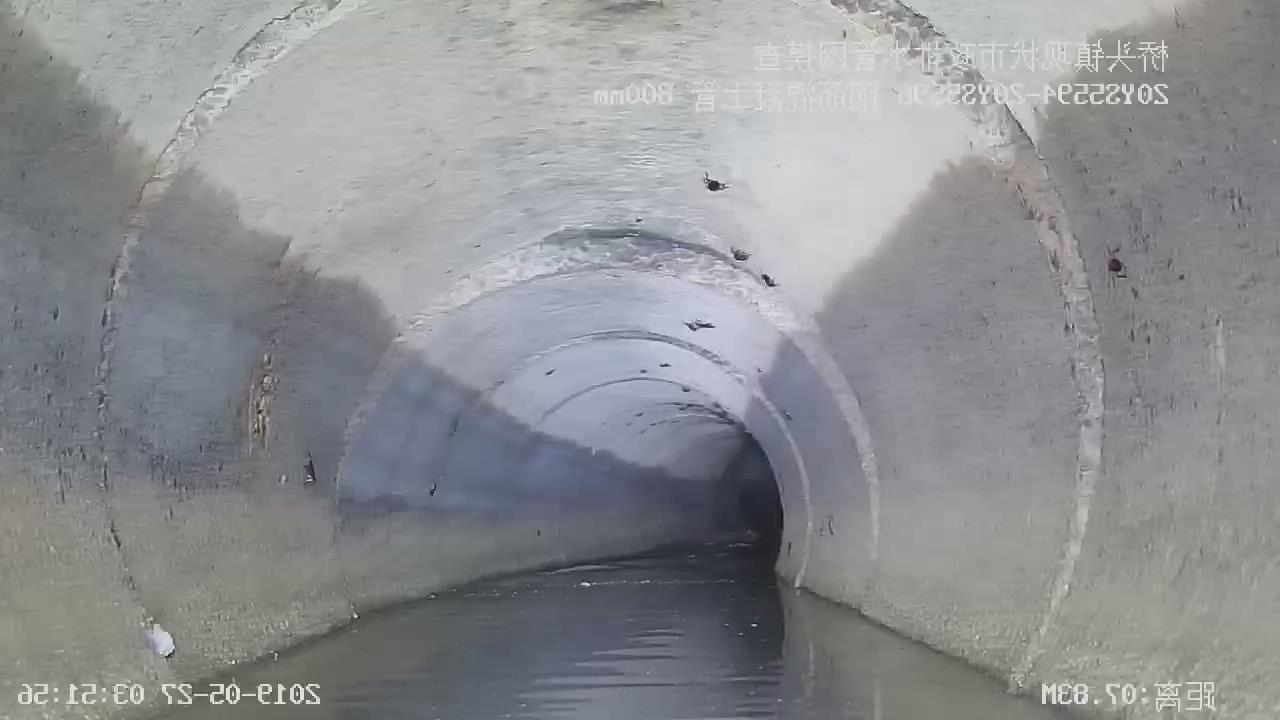CKTJ: (832, 0, 1103, 693), (339, 225, 879, 543), (92, 0, 369, 473), (533, 329, 815, 589), (810, 330, 878, 555)
